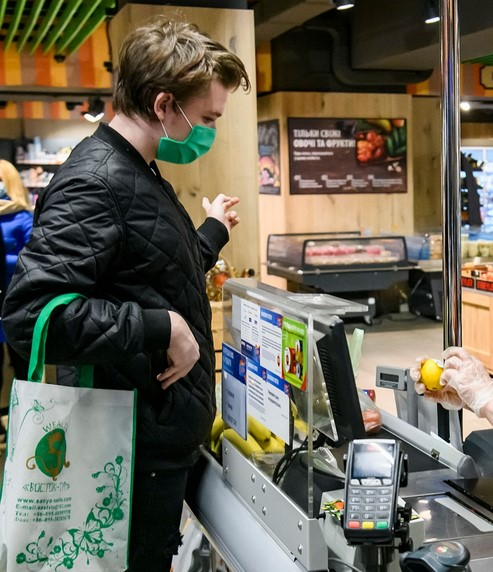face_with_mask: (123, 30, 229, 163)
